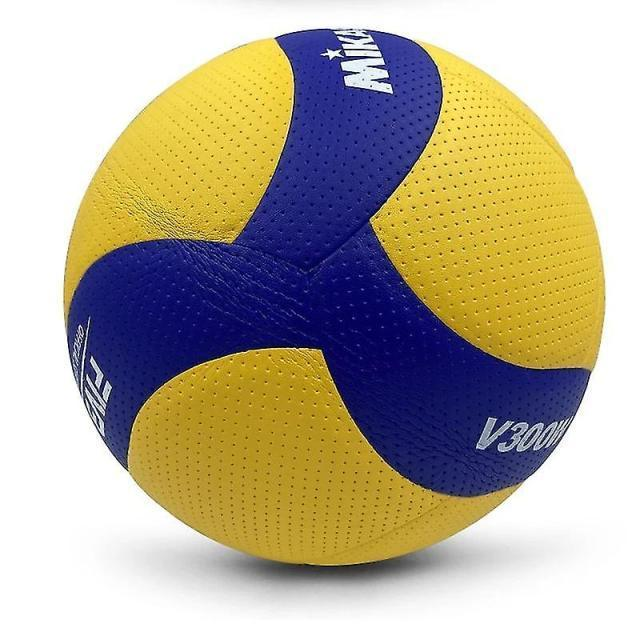volleyball: (63, 27, 605, 567)
